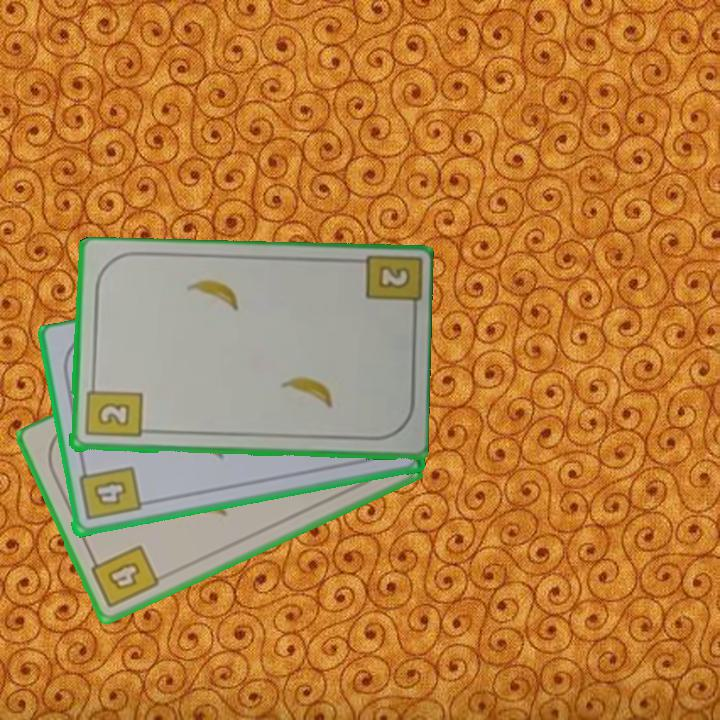2b: (81, 378, 144, 441), (374, 262, 414, 292)
4b: (85, 542, 162, 612), (75, 461, 143, 524)
